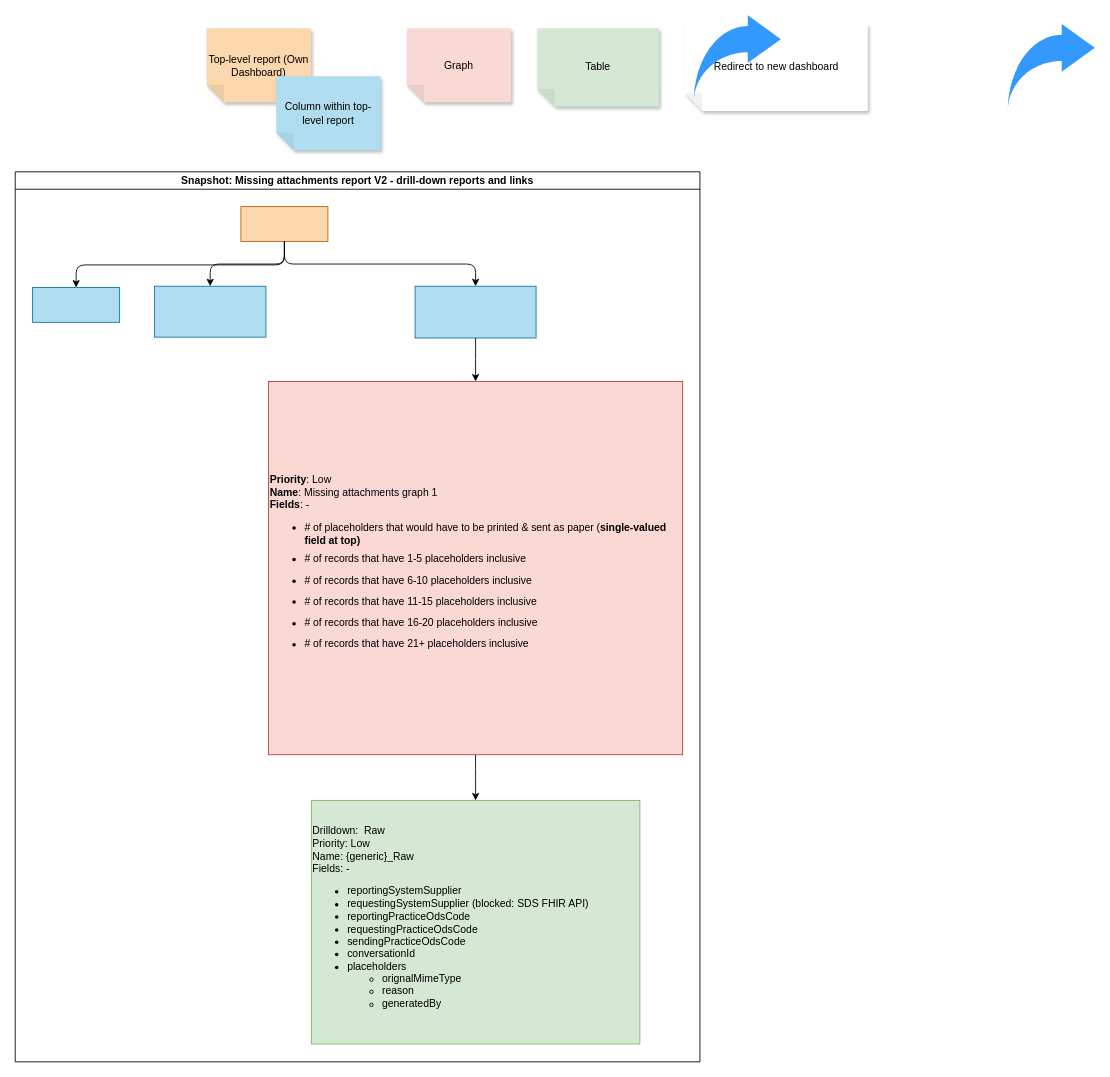
Image size: 1110x1077. Some labels were removed from this diagram. Each missing label, with the centre of its shape:
Column: Total records transferred: the point at 76,304
Column: Transferred with missing attachments: the point at 475,311
Column: Transferred with no missing attachments: the point at 210,311
Snapshot: Missing attachment report: the point at 284,223
